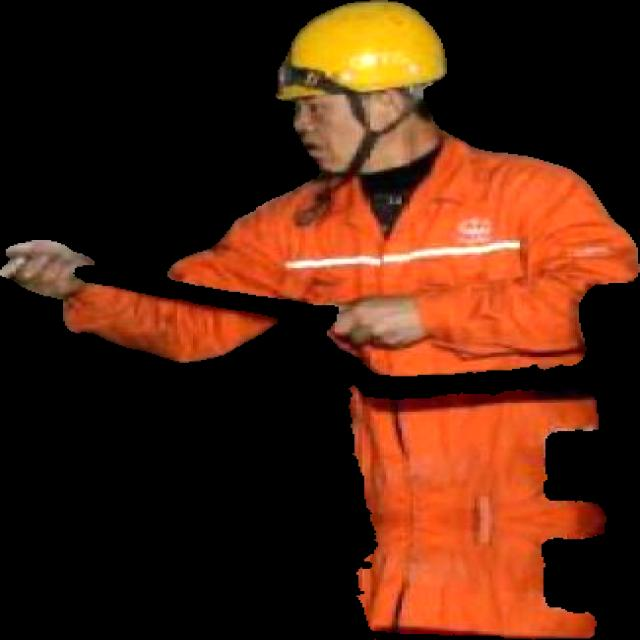Pessoa: (168, 0, 639, 376)
